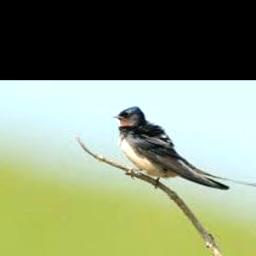Swallow: (114, 106, 256, 191)
